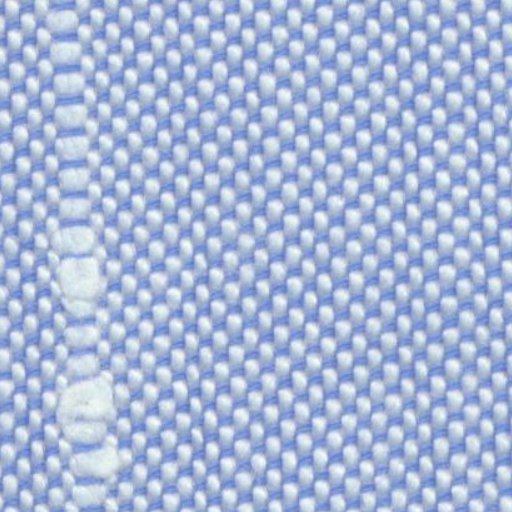MianQiu: (48, 378, 132, 500), (40, 250, 120, 318)
